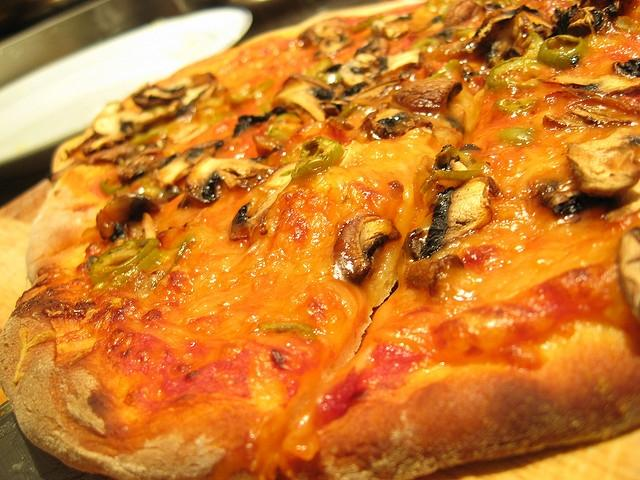mushroom: (404, 176, 499, 260), (230, 162, 298, 241), (566, 126, 638, 198), (332, 215, 402, 284), (186, 156, 276, 203), (476, 6, 534, 66), (96, 193, 160, 244), (272, 72, 334, 122), (392, 76, 464, 116), (154, 145, 215, 189), (618, 228, 640, 320), (543, 74, 640, 93), (94, 101, 140, 136), (132, 84, 186, 110), (82, 132, 134, 156), (341, 59, 378, 89), (548, 3, 578, 39), (355, 37, 389, 63), (376, 111, 416, 133), (320, 34, 355, 54), (613, 58, 640, 78), (383, 21, 411, 40)
